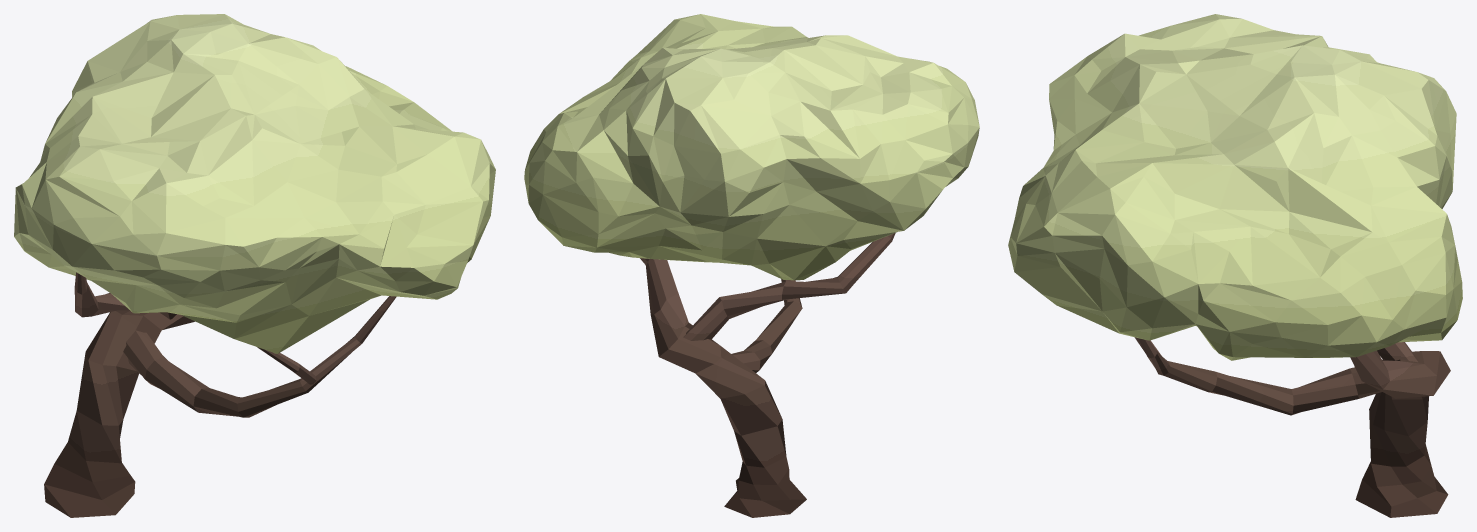
The model's file is Tree03.FBX.
3 views of the same model, side by side, from view 1: azimuth 30°, elevation 25°; view 2: azimuth 150°, elevation 25°; view 3: azimuth 270°, elevation 25° (orthographic). The views are drawn at different scales.
Visible parts, largest first — view 1: Tree03; view 2: Tree03; view 3: Tree03.
Part boxes in pixels (<box>): Tree03: <box>14,14,495,517</box>; Tree03: <box>524,14,979,517</box>; Tree03: <box>1008,14,1462,517</box>.
Size of the model in its own units: 354 by 361 by 311.
1 material, 1 textured.
